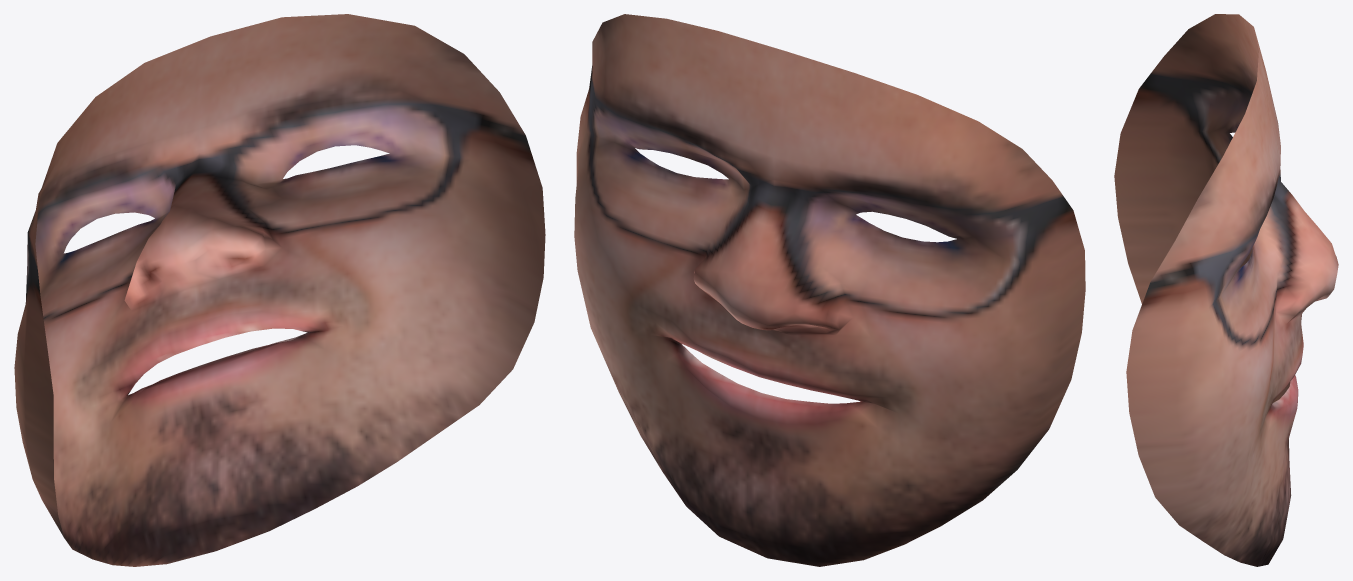
File: face-scan3.glb
3 views of the same model, side by side, from view 1: azimuth 30°, elevation 25°; view 2: azimuth 150°, elevation 25°; view 3: azimuth 270°, elevation 25° (orthographic). The views are drawn at different scales.
Visible parts, largest first — view 1: FaceScan; view 2: FaceScan; view 3: FaceScan.
Boxes of the visible parts, x1,y1,x2,y2 form: FaceScan: [14, 14, 545, 566]; FaceScan: [574, 14, 1085, 566]; FaceScan: [1114, 14, 1338, 566].
Size of the model in its own units: 14 by 14 by 5.75.
1 material, 1 textured.
